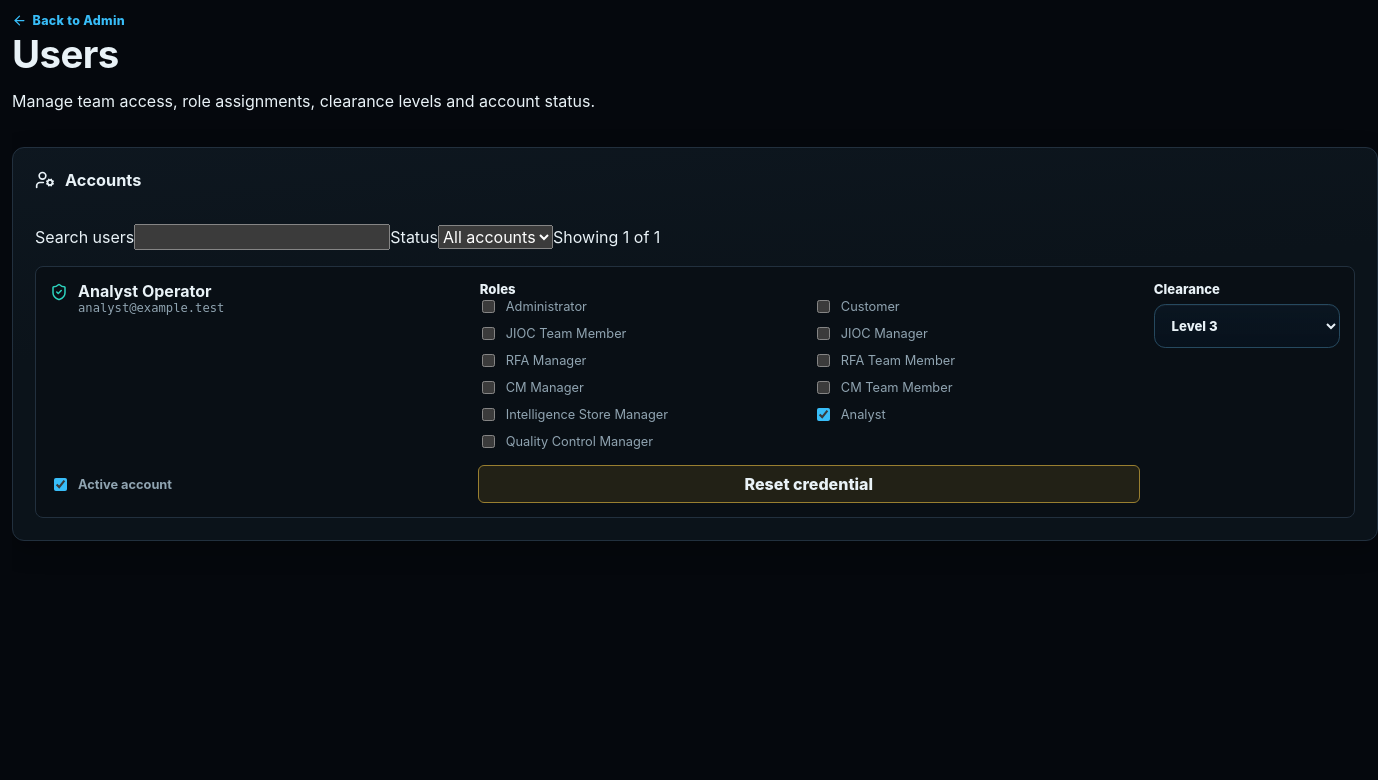
shows an actionable error when a user update fails
Select "Level 4" in the dropdown labelled "Clearance" at [1247, 326], box [1154,304,1340,348]
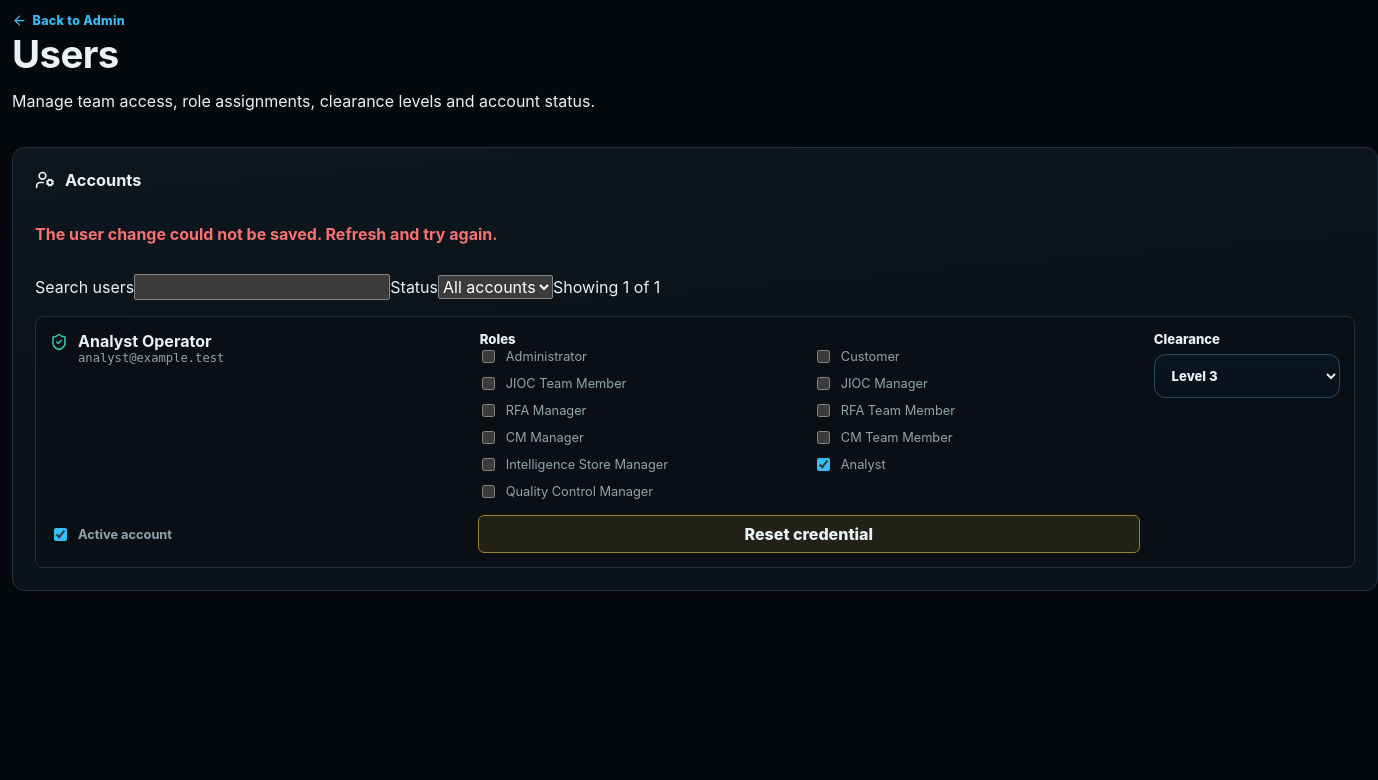
Now the text "The user change could not be saved. Refresh and try again." is shown, box [35,224,498,244]
